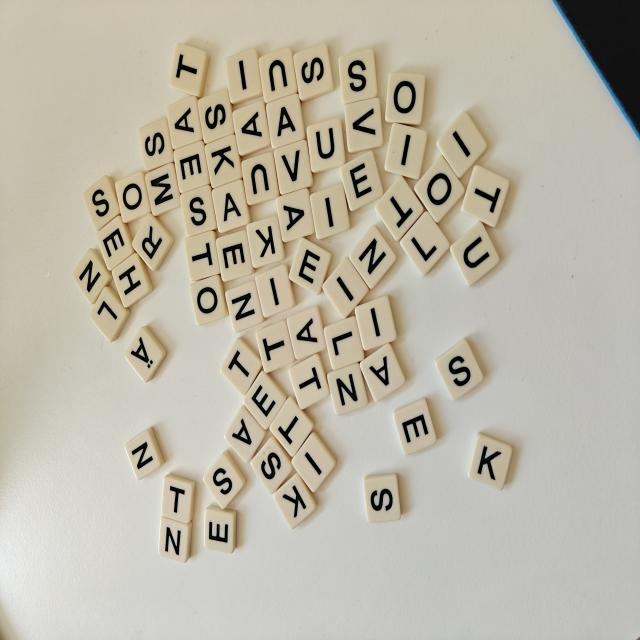a: (360, 343, 405, 401), (225, 405, 265, 462), (266, 93, 305, 149), (232, 100, 271, 156), (286, 306, 326, 360), (212, 179, 251, 233), (276, 189, 315, 242), (167, 96, 202, 150)
a_dot: (126, 326, 166, 382)
e: (340, 151, 383, 211), (244, 371, 287, 429), (393, 399, 437, 455), (289, 238, 331, 295), (96, 215, 135, 271), (216, 229, 254, 282), (174, 141, 209, 193), (204, 506, 236, 553)
h: (112, 252, 153, 308)
i: (436, 111, 486, 178), (322, 258, 369, 318), (292, 431, 336, 492), (385, 123, 427, 180), (355, 295, 397, 350), (310, 183, 350, 239), (256, 264, 295, 318), (225, 49, 262, 105)
k: (468, 433, 512, 490), (274, 473, 316, 529), (247, 216, 285, 268), (205, 135, 242, 188)
l: (400, 211, 449, 275), (90, 286, 130, 341), (324, 316, 364, 369)
m: (145, 163, 180, 217)
n: (349, 226, 396, 288), (73, 249, 113, 304), (225, 280, 265, 332), (327, 364, 367, 415), (126, 428, 164, 480), (158, 517, 191, 562)
o: (414, 156, 465, 222), (385, 72, 425, 125), (190, 276, 228, 325), (115, 171, 150, 223)
r: (133, 214, 173, 270)
s: (436, 339, 483, 400), (203, 451, 245, 508), (251, 436, 292, 494), (294, 43, 334, 101), (338, 49, 377, 104), (83, 175, 120, 230), (198, 89, 234, 144), (180, 184, 217, 236), (363, 473, 401, 522), (139, 119, 173, 172)
t: (375, 176, 424, 240), (462, 165, 509, 227), (270, 397, 314, 456), (221, 338, 262, 396), (289, 354, 329, 409), (170, 43, 209, 98), (256, 320, 295, 372), (185, 231, 220, 280), (162, 474, 195, 522)
u: (450, 222, 499, 285), (258, 48, 297, 102), (307, 118, 345, 173), (242, 152, 280, 205)
v: (345, 97, 383, 153), (275, 140, 313, 194)
